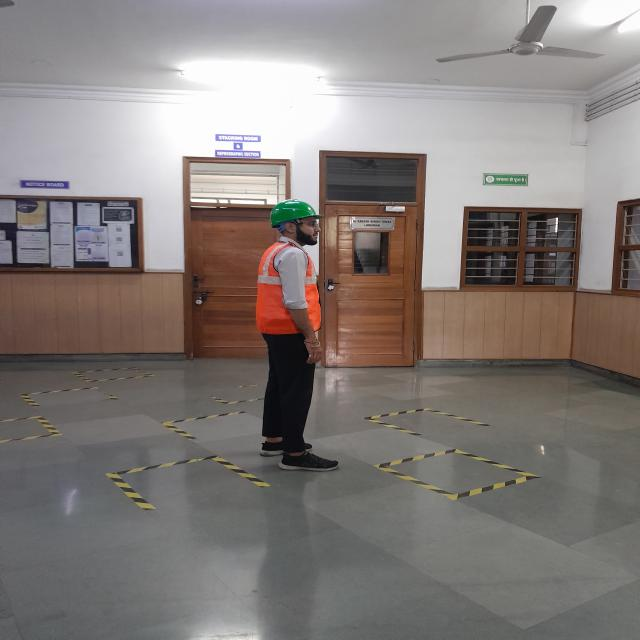safe: (256, 199, 324, 470)
